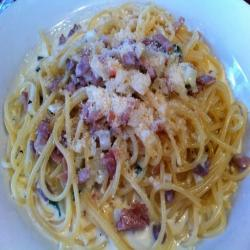carbonara: (8, 12, 244, 250)
